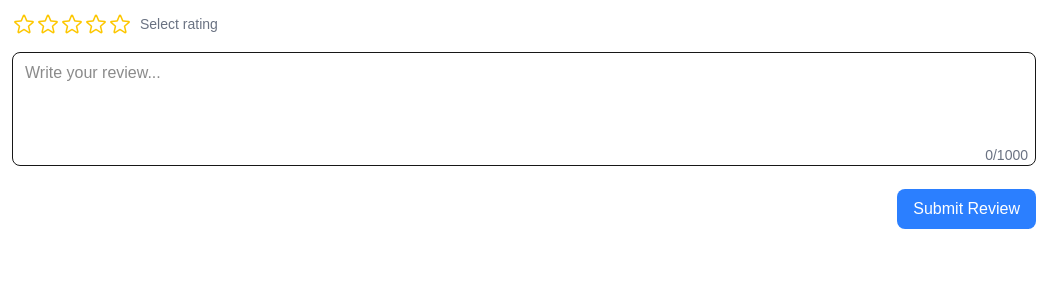
Review › shows error when no rating is provided
In the text box: (524, 109) [12, 52, 1036, 166], type "This is a valid review length"
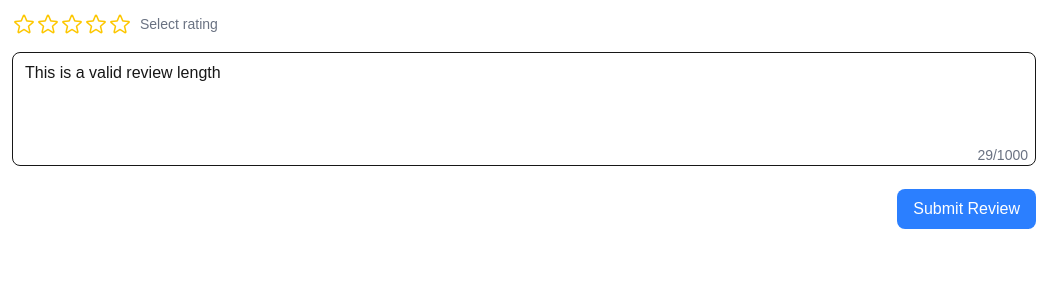
Submit the form
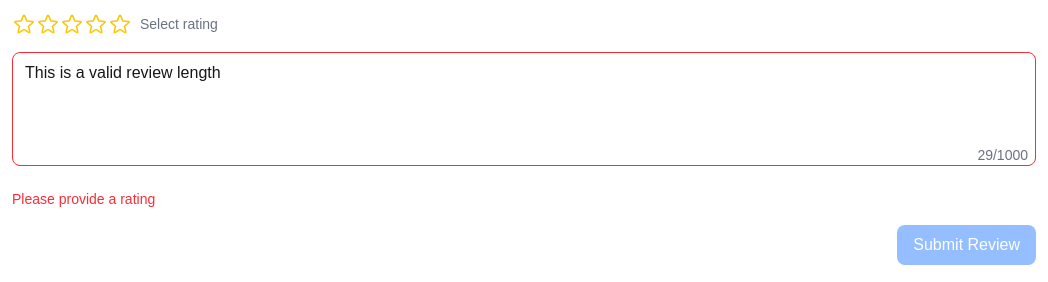
Check: the text "Please provide a rating" is shown, box [12, 191, 155, 207]
